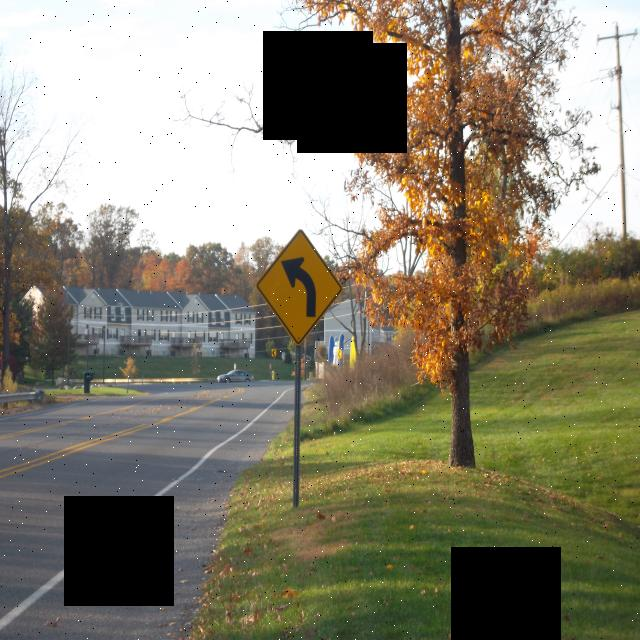warning: (257, 228, 346, 344)
